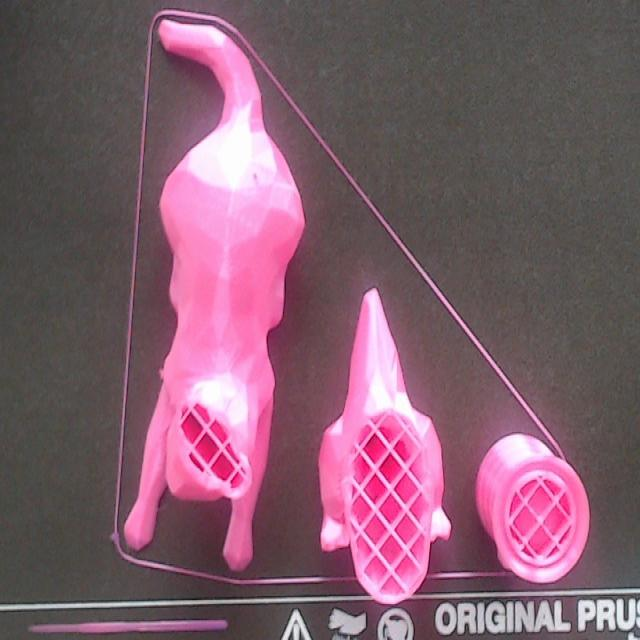mistake: (158, 368, 163, 381)
